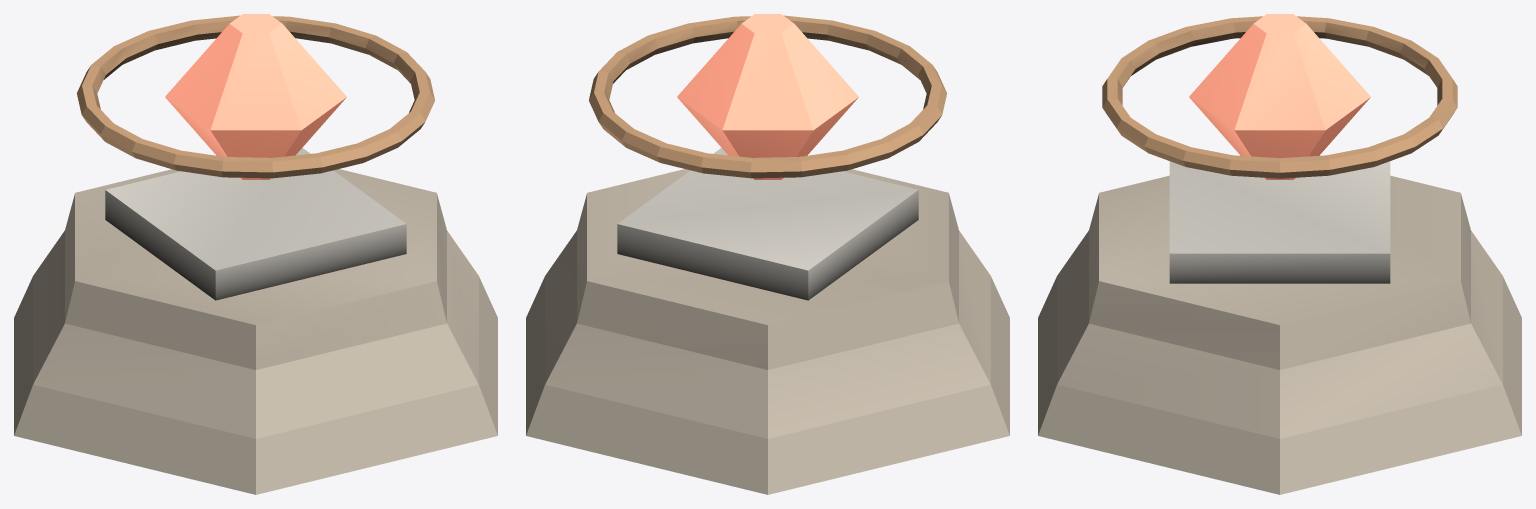
The model's file is console.glb.
3 renders of one model, left to right at view 1: azimuth 30°, elevation 25°; view 2: azimuth 150°, elevation 25°; view 3: azimuth 270°, elevation 25°, orthographic.
Visible parts, largest first — view 1: console; view 2: console; view 3: console.
Boxes of the visible parts, x1,y1,x2,y2 form: console: [14, 14, 497, 494]; console: [526, 14, 1009, 494]; console: [1038, 14, 1521, 494].
Size of the model in its own units: 3.8 by 2.65 by 3.29.
